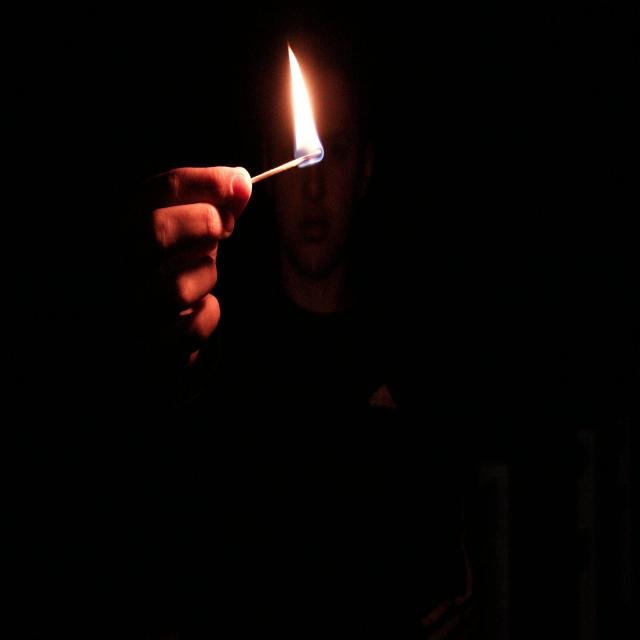fire: (287, 40, 324, 168)
